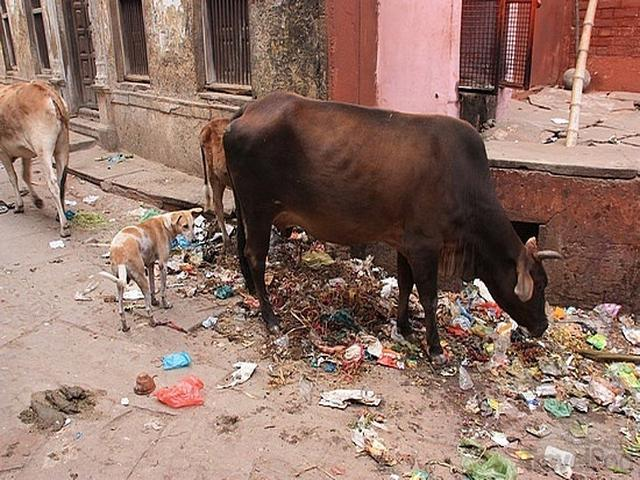garbage: (282, 253, 384, 381)
